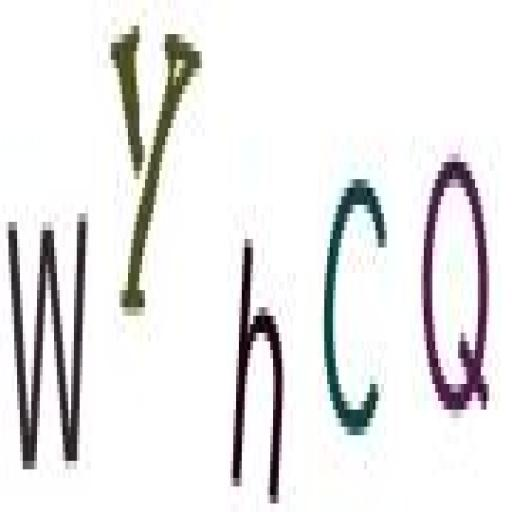C: (315, 147, 387, 449)
Q: (418, 151, 497, 429)
W: (5, 207, 89, 477)
Y: (109, 21, 203, 319)
h: (232, 223, 286, 505)
